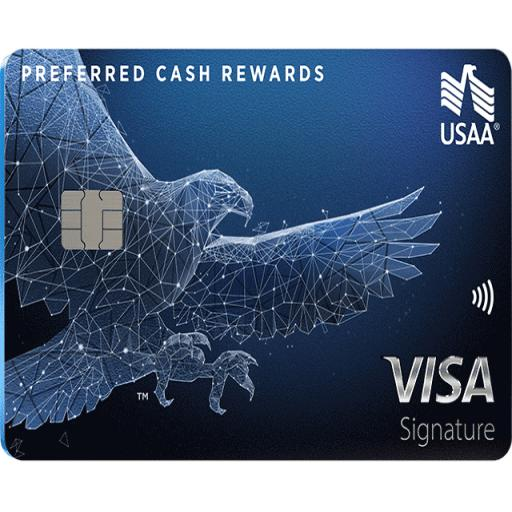credit-card: (0, 28, 512, 464)
